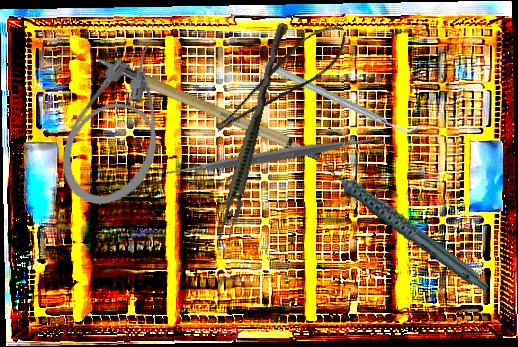Cannula: (45, 31, 200, 220)
Chopper: (260, 13, 422, 181)
Handpiece: (317, 125, 491, 322)
Micro Scissor: (199, 16, 359, 138)
Scalpel Handle: (97, 23, 324, 189)
Spatula Surgical: (154, 37, 392, 274)
Tissue Forceps: (216, 20, 289, 243)
